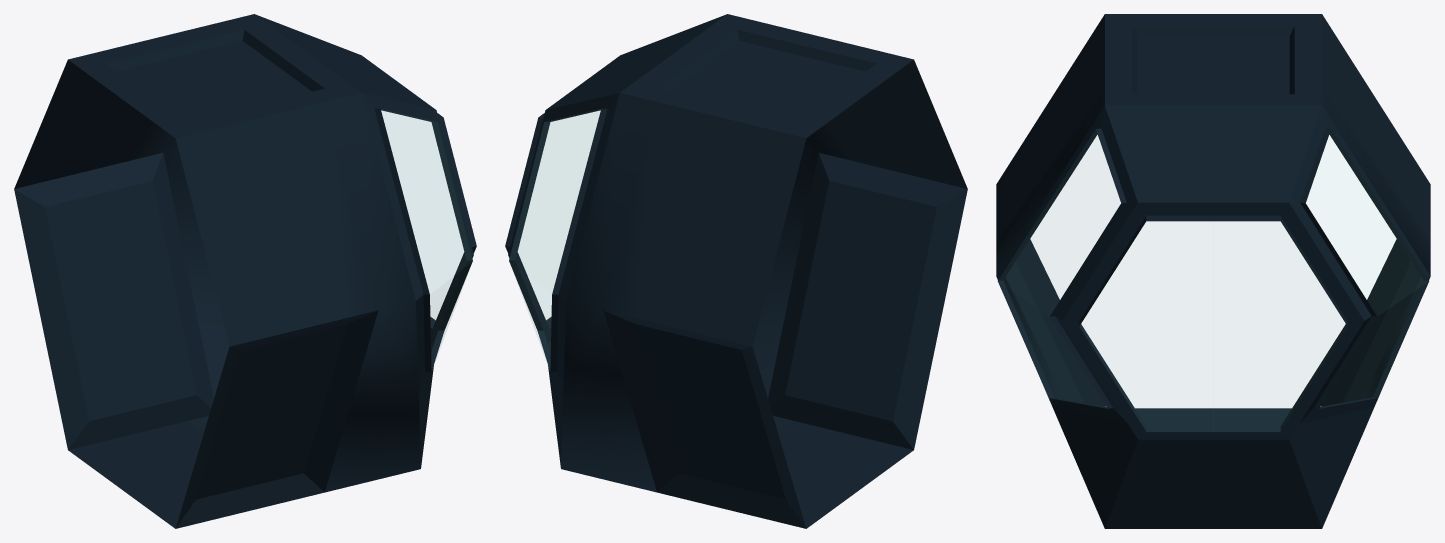
File: cockpit.DAE
3 views of the same model, side by side, from view 1: azimuth 30°, elevation 25°; view 2: azimuth 150°, elevation 25°; view 3: azimuth 270°, elevation 25° (orthographic).
Parts seen in each view (by area): view 1: Cylinder001; view 2: Cylinder001; view 3: Cylinder001.
Part boxes in pixels (<box>): Cylinder001: <box>14,14,476,528</box>; Cylinder001: <box>505,14,967,528</box>; Cylinder001: <box>996,14,1430,528</box>.
Bounding box in the file's own units: 74.3 × 96.1 × 96.
